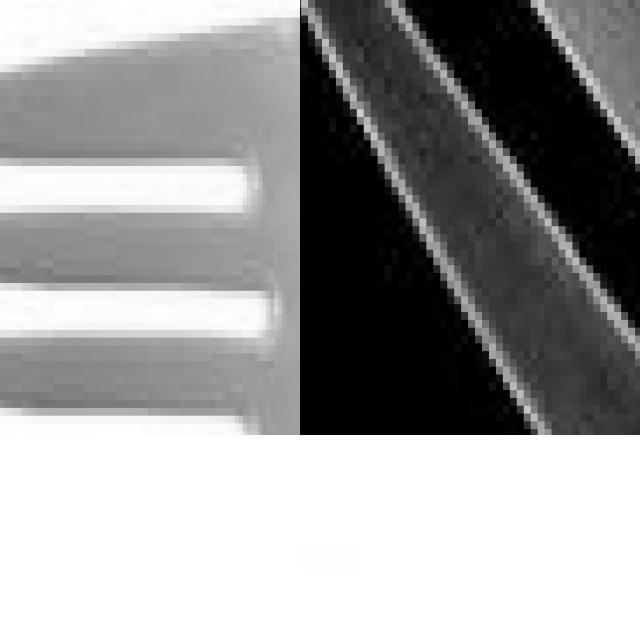forks: (300, 0, 640, 435), (0, 0, 300, 435)
